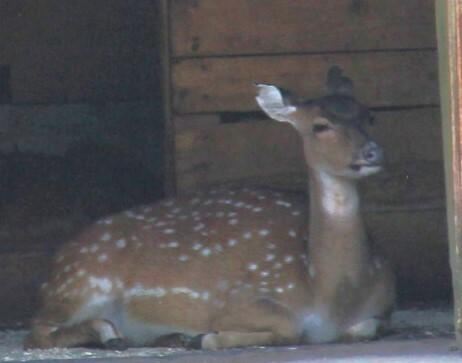Deer: (24, 67, 394, 348)
